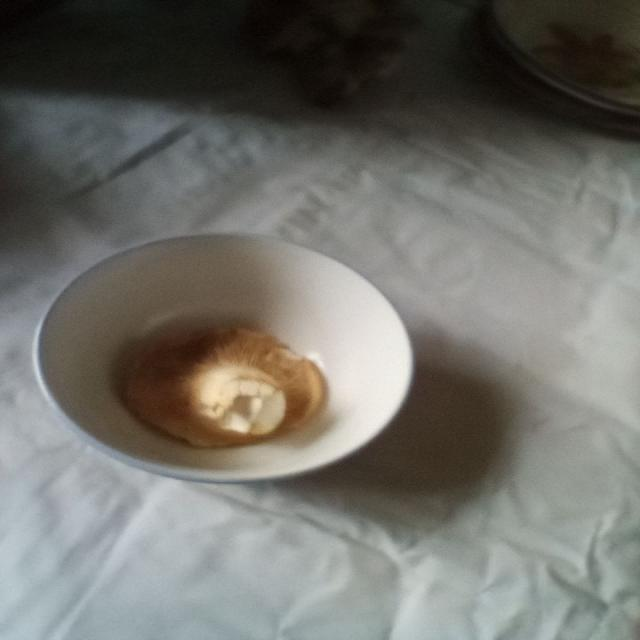Pleurotus cystidiosus: (121, 326, 327, 450)
